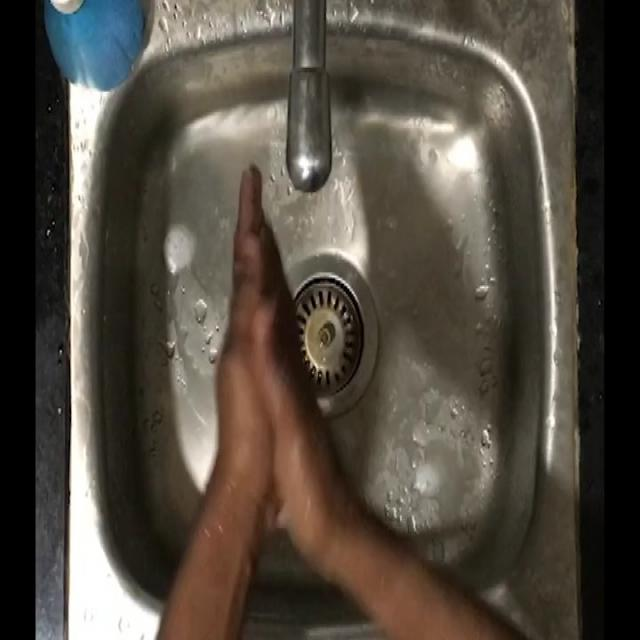step_1: (182, 137, 344, 508)
